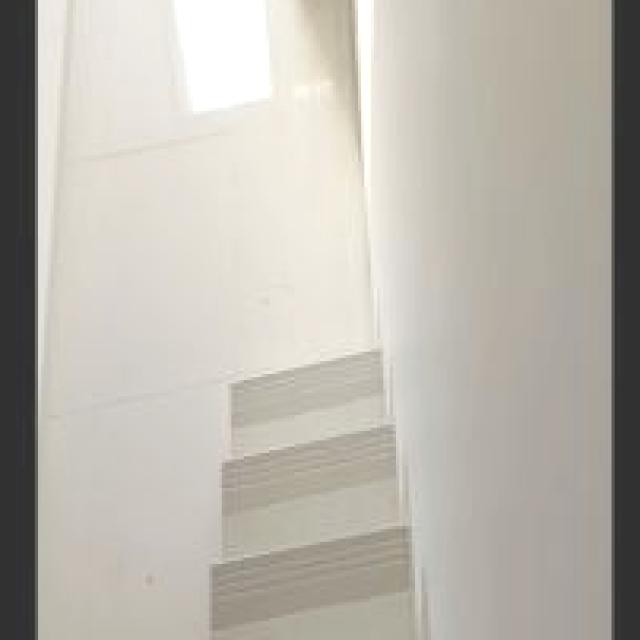downstair: (214, 378, 423, 640)
